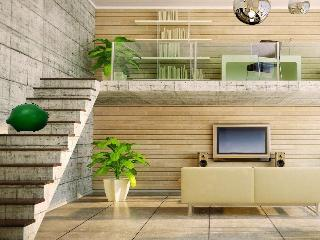lime: (7, 102, 49, 132)
